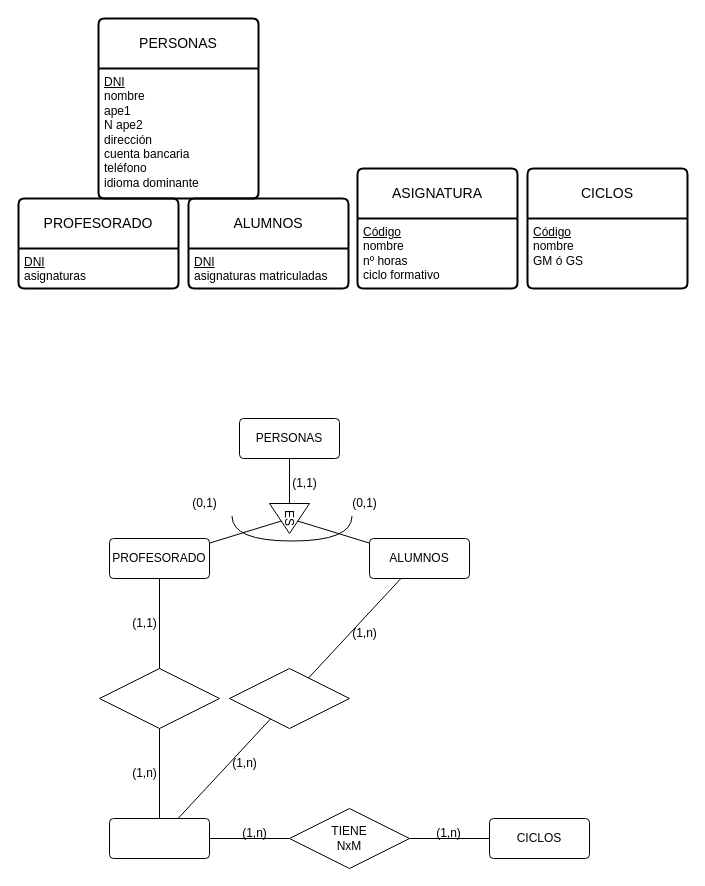
Some shapes in this 705 by 886 pixel diagram are drawn without their labels. The centre of each missing label's shape, as x and y in pixels:
"ASIGNATURAS" goes at point 159,838.
"IMPARTE 1xN" goes at point 159,698.
"MATRICULA NxM" goes at point 289,698.
